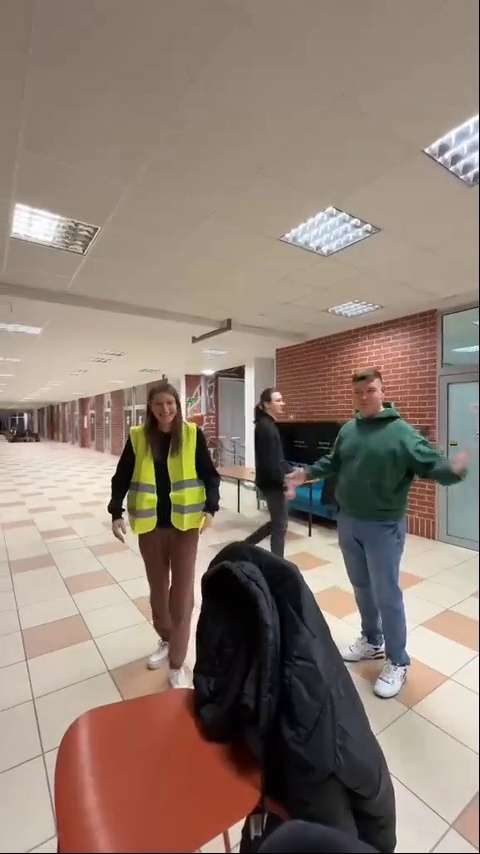no vest: (326, 370, 460, 711), (243, 387, 298, 562)
vest: (111, 382, 222, 692)
